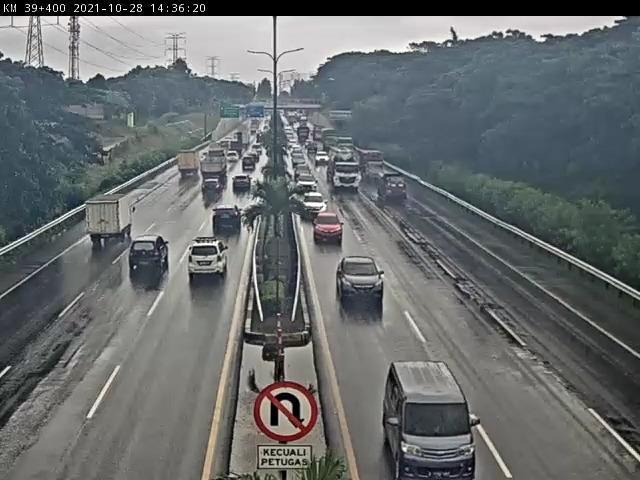car: (383, 360, 481, 480), (335, 254, 388, 306), (186, 236, 230, 283), (129, 235, 171, 276), (209, 204, 245, 238), (311, 210, 345, 241), (301, 186, 327, 218), (231, 173, 253, 195), (202, 177, 225, 197), (296, 173, 318, 193), (238, 156, 258, 175)
truck: (87, 193, 135, 242), (326, 144, 361, 192), (377, 167, 411, 204), (175, 149, 204, 183), (200, 149, 230, 179)
